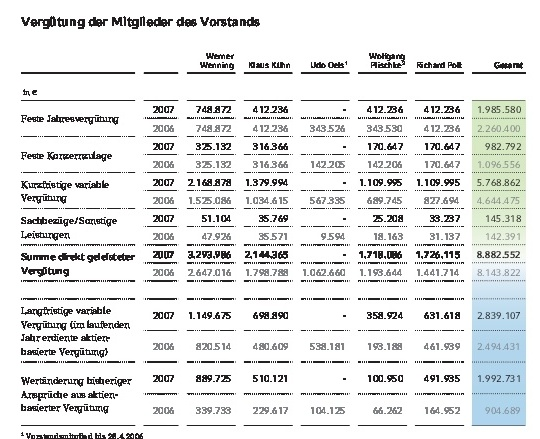table: (0, 0, 540, 439)
